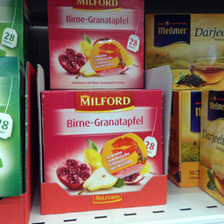tea: (40, 89, 164, 197), (47, 1, 146, 90), (146, 13, 224, 91)
